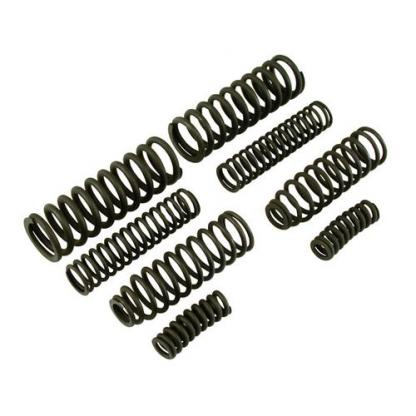FOD: (21, 132, 184, 265), (105, 209, 256, 328), (163, 52, 309, 165), (63, 185, 202, 298), (264, 122, 389, 233), (215, 98, 336, 196), (149, 288, 234, 361), (309, 196, 382, 264)
